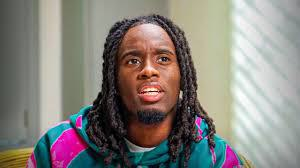kai-cenat: (117, 24, 185, 124)
